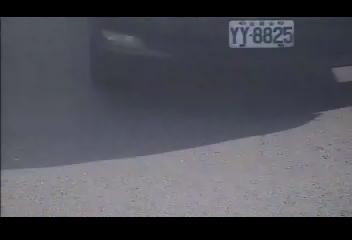plate: (226, 18, 297, 50)
